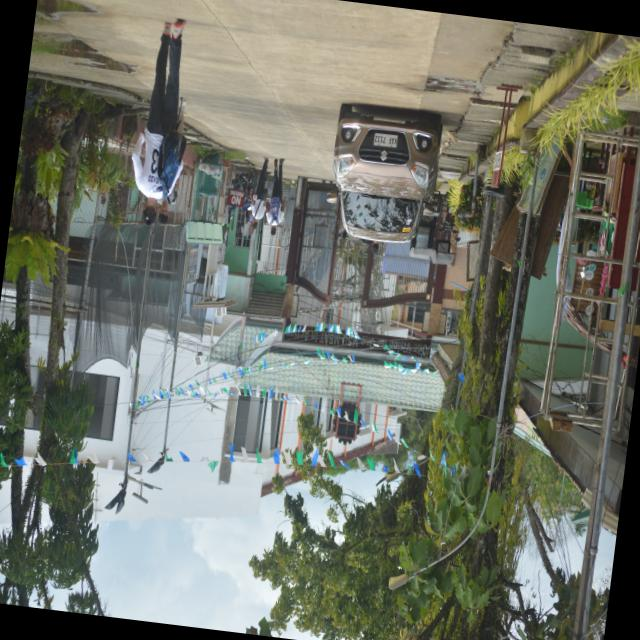person: (131, 19, 185, 224), (265, 158, 284, 234), (250, 157, 267, 228), (158, 179, 178, 223)
